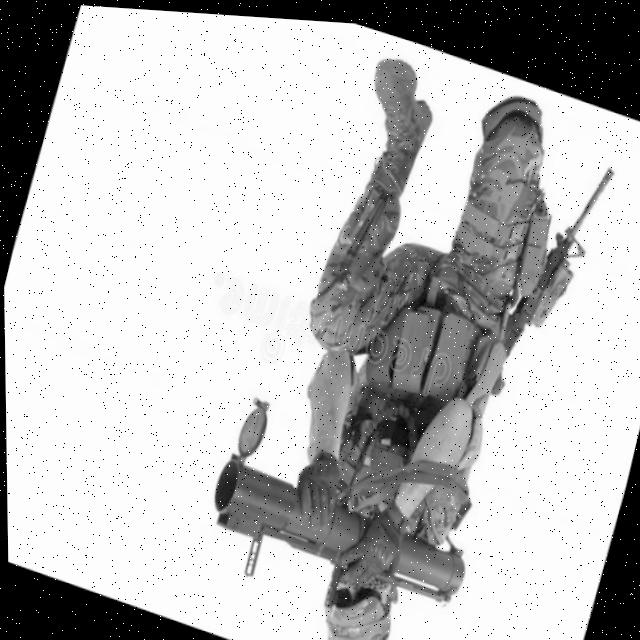rocket: (188, 386, 496, 640)
